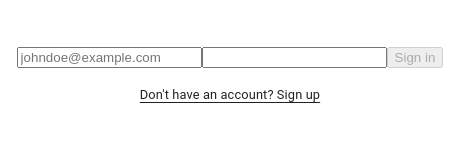
Test: AuthPage › parses non-JSON error text responses
Type "test@example.com" into the field with placeholder "johndoe@example.com". click: x=109, y=57
box: [17,46,202,68]
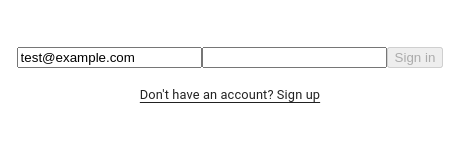
Type "password123" into the password field named "Password". click: x=294, y=57
box: [202,46,387,68]
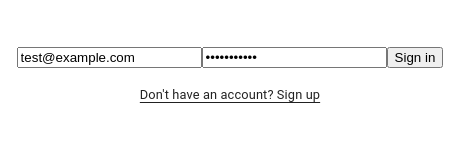
Click the button "Sign in". click: x=415, y=57
box: [387,46,443,68]
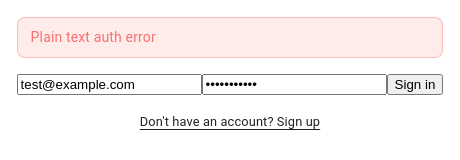
Result: the text "Plain text auth error" is shown at [17,17,443,58]
